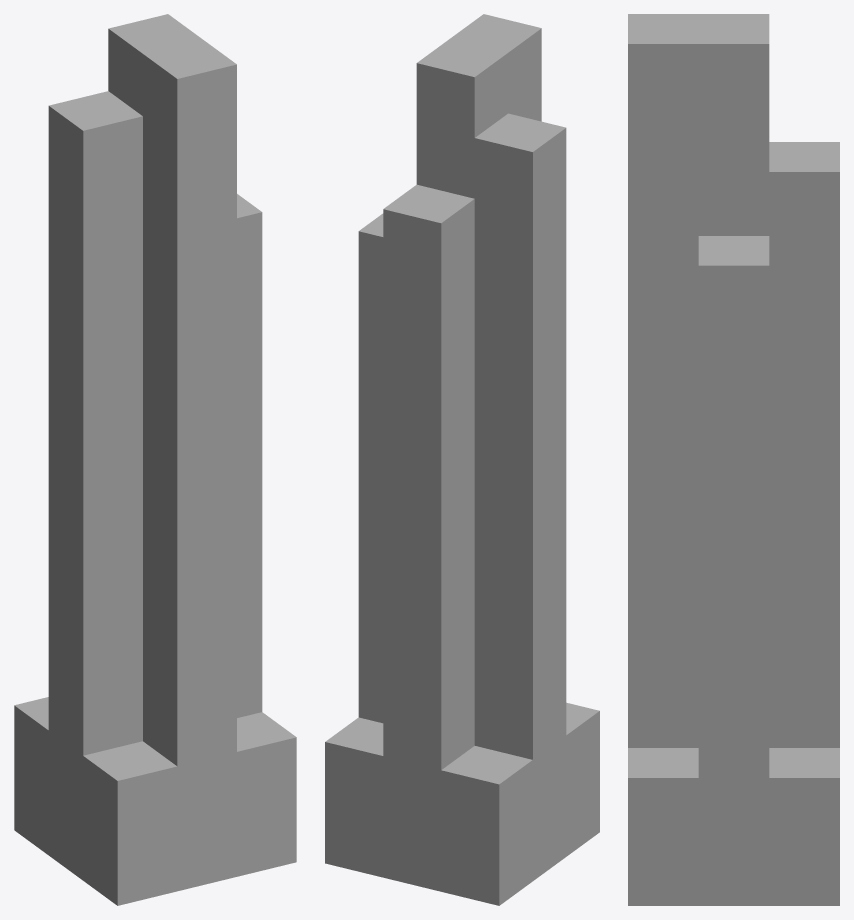
Rendered from obj_column2.fbx.
3 views of the same model, side by side, from view 1: azimuth 30°, elevation 25°; view 2: azimuth 150°, elevation 25°; view 3: azimuth 270°, elevation 25° (orthographic). The views are drawn at different scales.
Visible parts, largest first — view 1: obj_column2; view 2: obj_column2; view 3: obj_column2.
Boxes of the visible parts, x1,y1,x2,y2 form: obj_column2: (14,14,296,905); obj_column2: (325,14,599,905); obj_column2: (628,14,839,905).
Bounding box in the file's own units: 0.3 × 0.3 × 1.3.
1 material, 1 textured.
